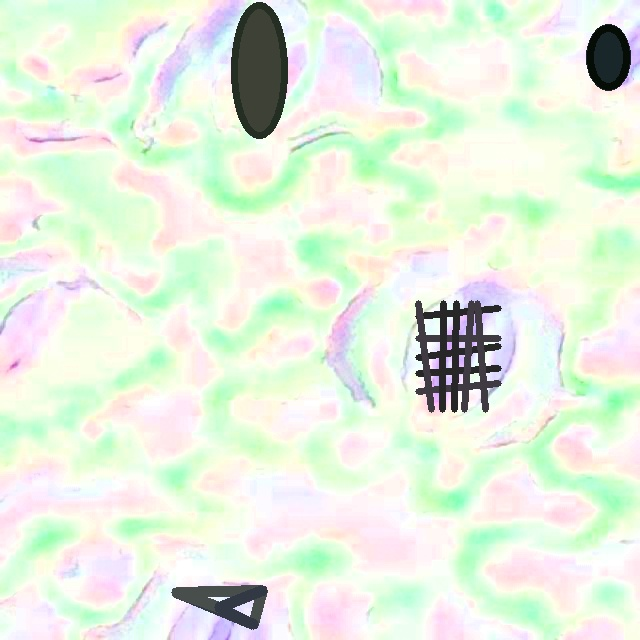open: (415, 300, 501, 412), (231, 2, 287, 138), (171, 585, 267, 629), (586, 24, 629, 90)
